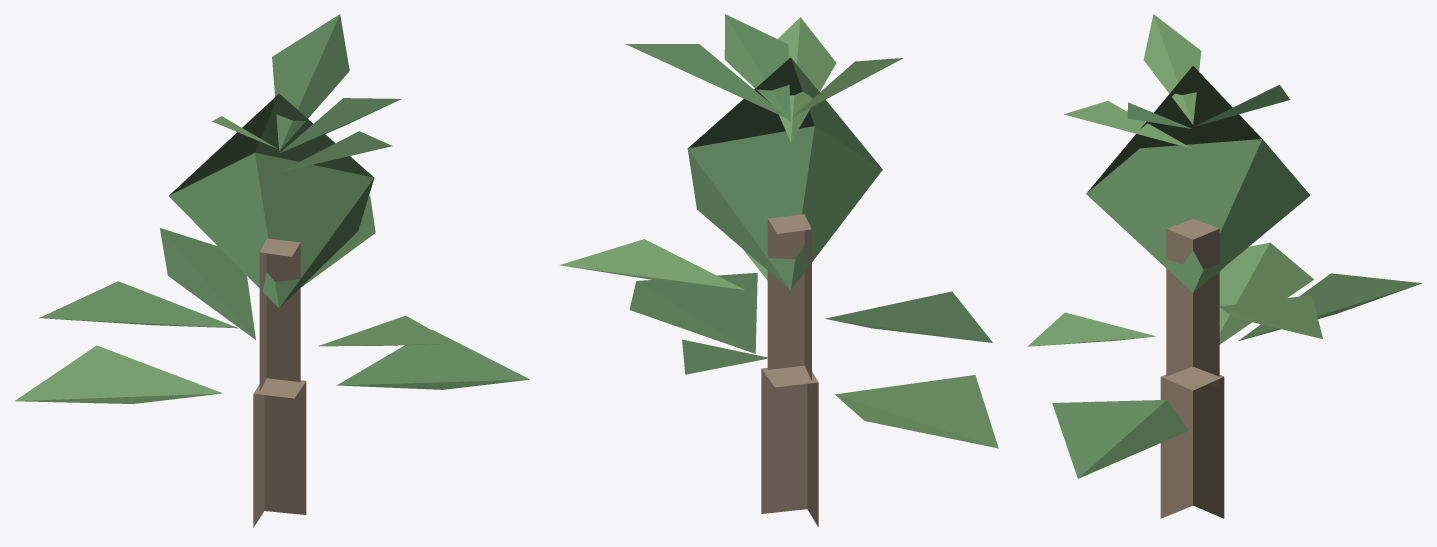
The model's file is shu.mumian@seedling__summer.glb.
3 views of the same model, side by side, from view 1: azimuth 30°, elevation 25°; view 2: azimuth 150°, elevation 25°; view 3: azimuth 270°, elevation 25° (orthographic). The views are drawn at different scales.
Parts seen in each view (by area): view 1: shu.mumian@seedling__summer; view 2: shu.mumian@seedling__summer; view 3: shu.mumian@seedling__summer.
Part boxes in pixels (x1,y1,x2,y2): shu.mumian@seedling__summer: (14,14,529,527); shu.mumian@seedling__summer: (559,14,998,527); shu.mumian@seedling__summer: (1027,14,1421,518).
Size of the model in its own units: 2.48 by 2.5 by 1.89.
